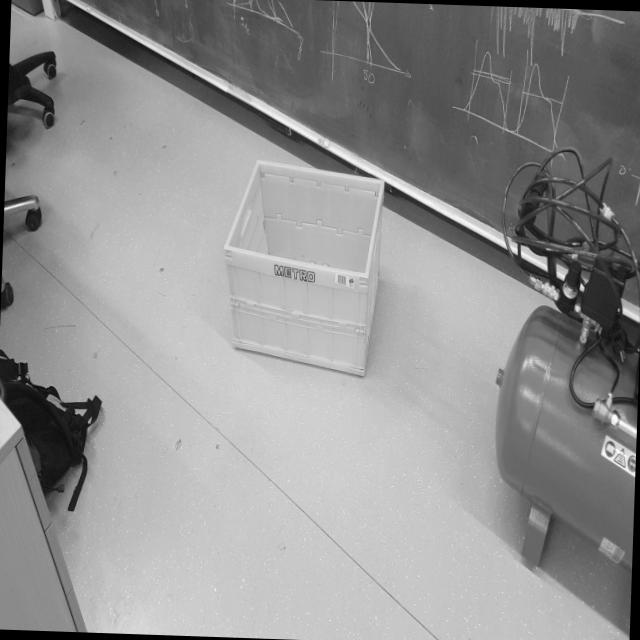box: (213, 152, 393, 399)
